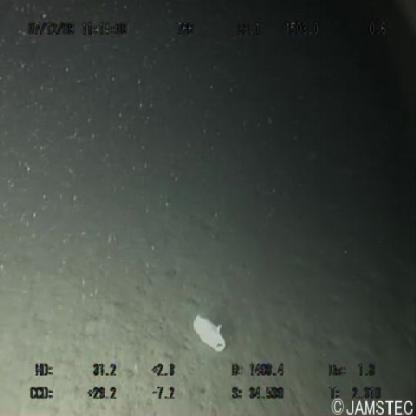Rác: (188, 312, 229, 359)
